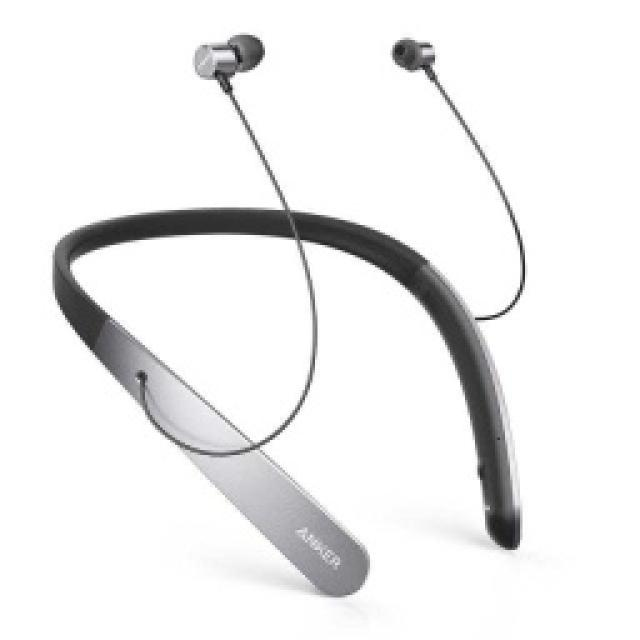headphones: (50, 30, 528, 595)
